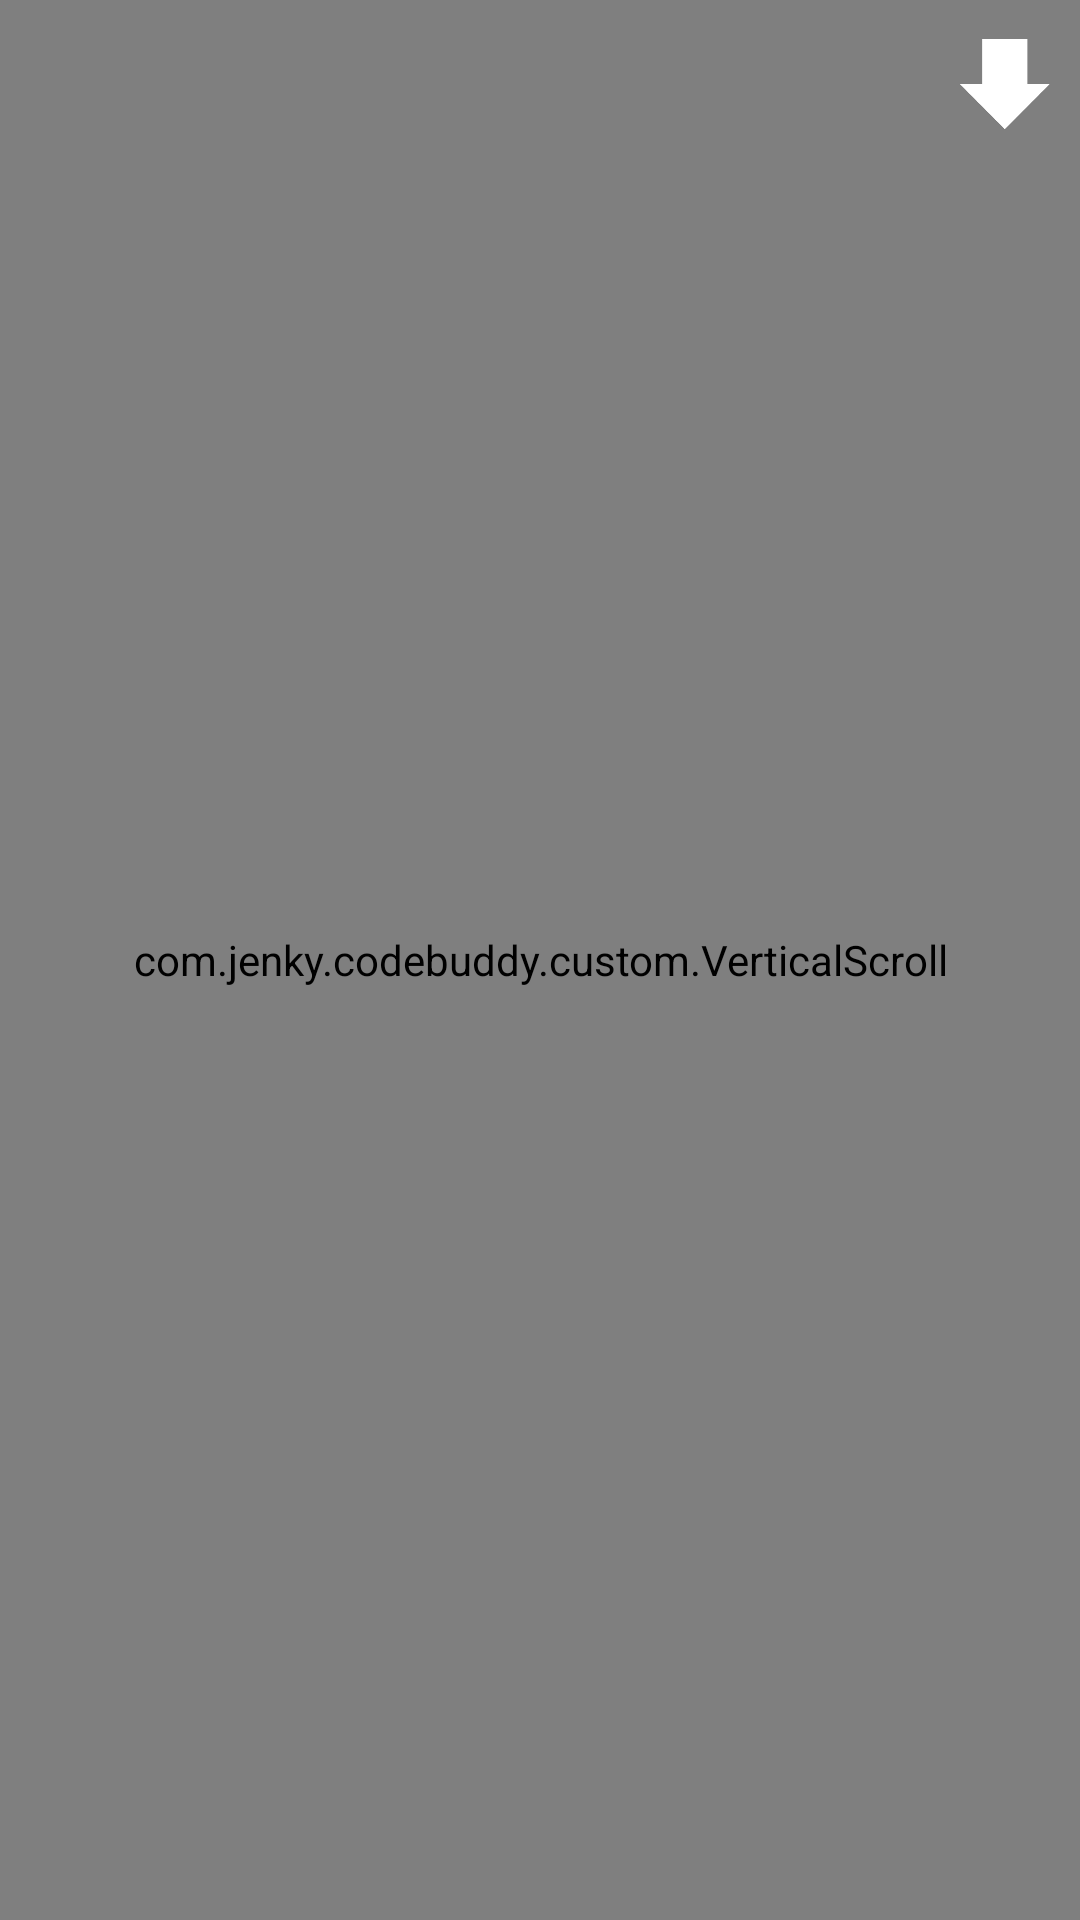

Icons on this 1080*1920 Android screen, each with the point to tap as [x,y]:
arrow down: [1004,84]
